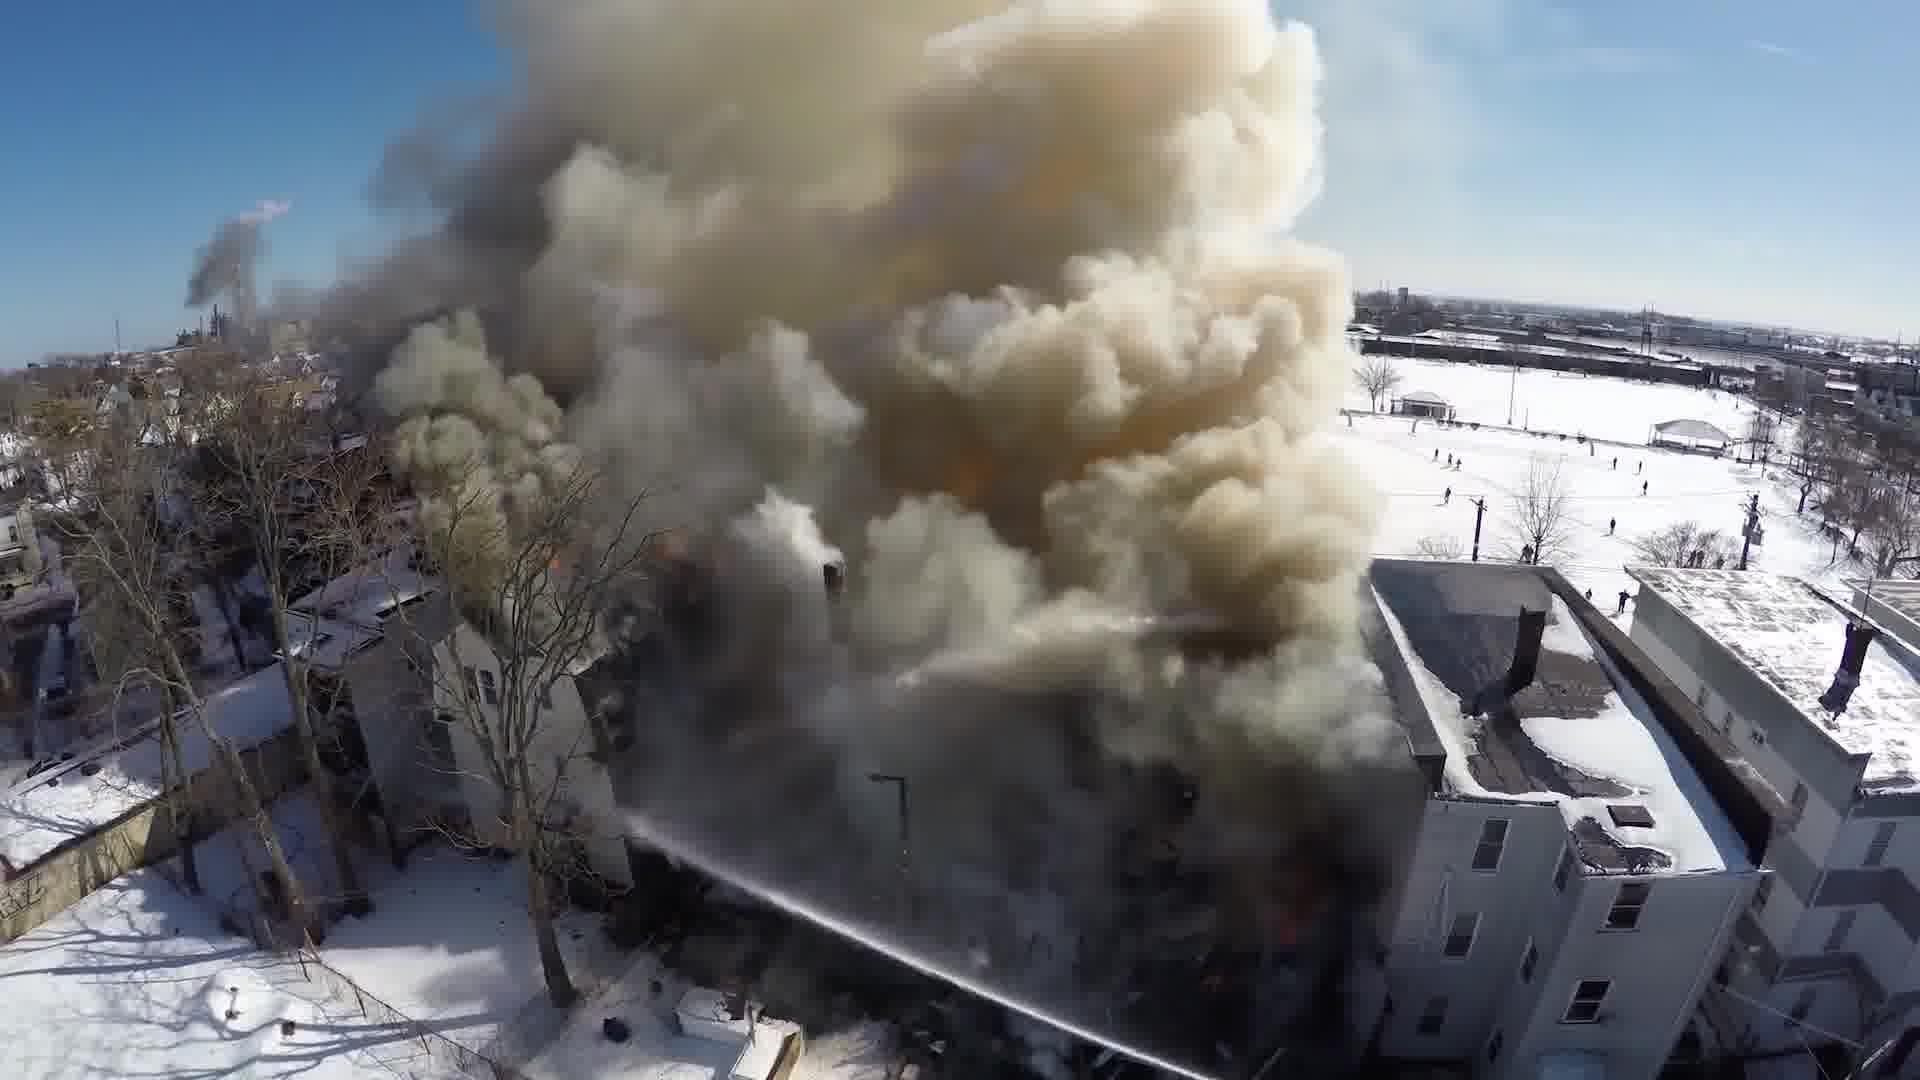smoke: (590, 20, 1282, 832)
